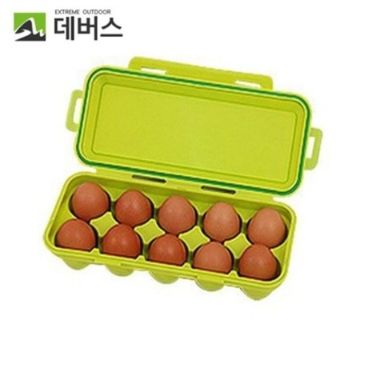egg: (55, 175, 288, 285)
